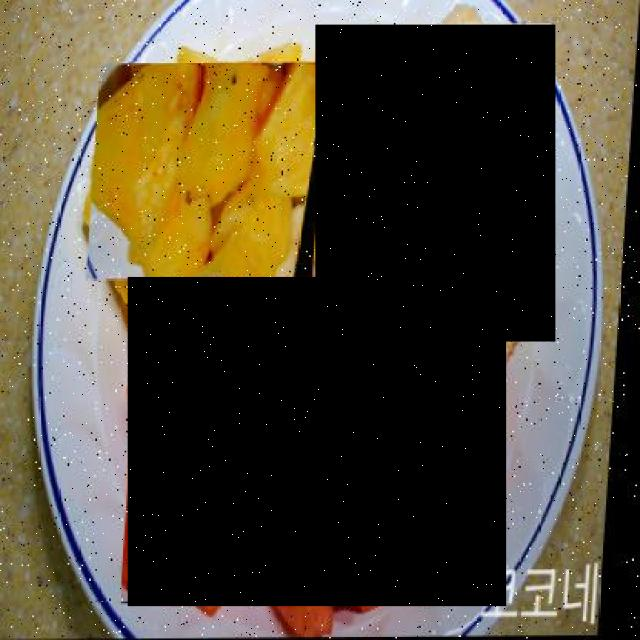Banana: (316, 25, 556, 342)
Watermelon: (128, 277, 507, 606)
